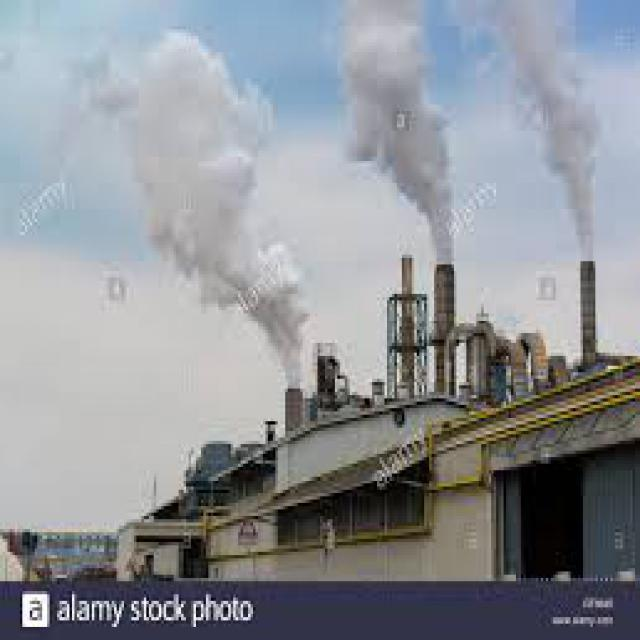Smoke: (99, 37, 324, 384), (326, 18, 469, 266), (492, 2, 604, 266)
